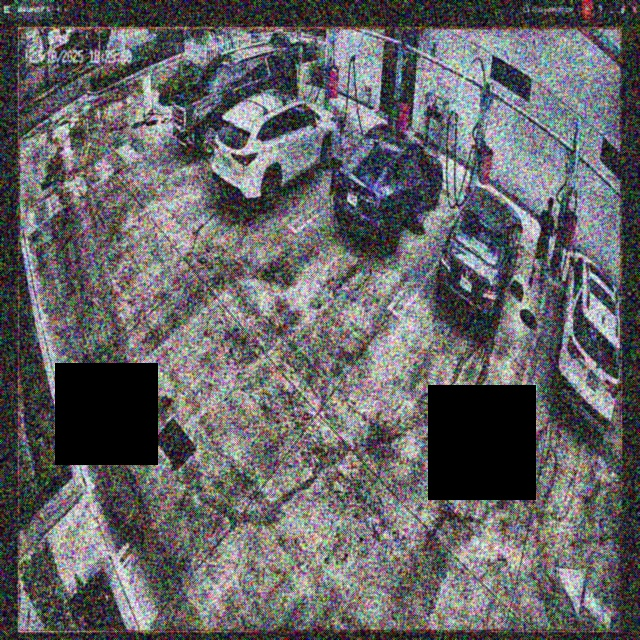Car: (333, 124, 442, 253), (212, 96, 342, 204), (171, 49, 296, 151), (437, 187, 522, 329)
